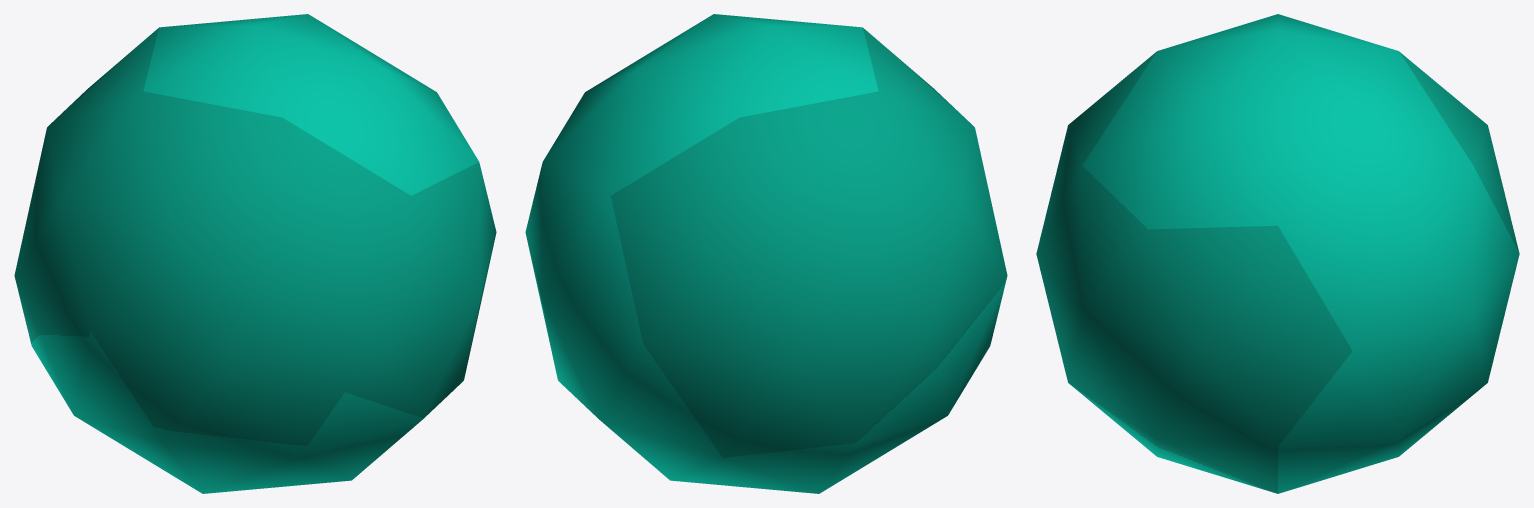
The model's file is Accesories_Ball.glb.
3 views of the same model, side by side, from view 1: azimuth 30°, elevation 25°; view 2: azimuth 150°, elevation 25°; view 3: azimuth 270°, elevation 25° (orthographic).
Parts seen in each view (by area): view 1: Accesories_Ball; view 2: Accesories_Ball; view 3: Accesories_Ball.
Part boxes in pixels (<box>): Accesories_Ball: <box>14,14,496,493</box>; Accesories_Ball: <box>525,14,1007,493</box>; Accesories_Ball: <box>1036,14,1519,493</box>.
Bounding box in the file's own units: 0.3941 × 0.4232 × 0.4144.
Materials: 1 (1 with a texture image).
